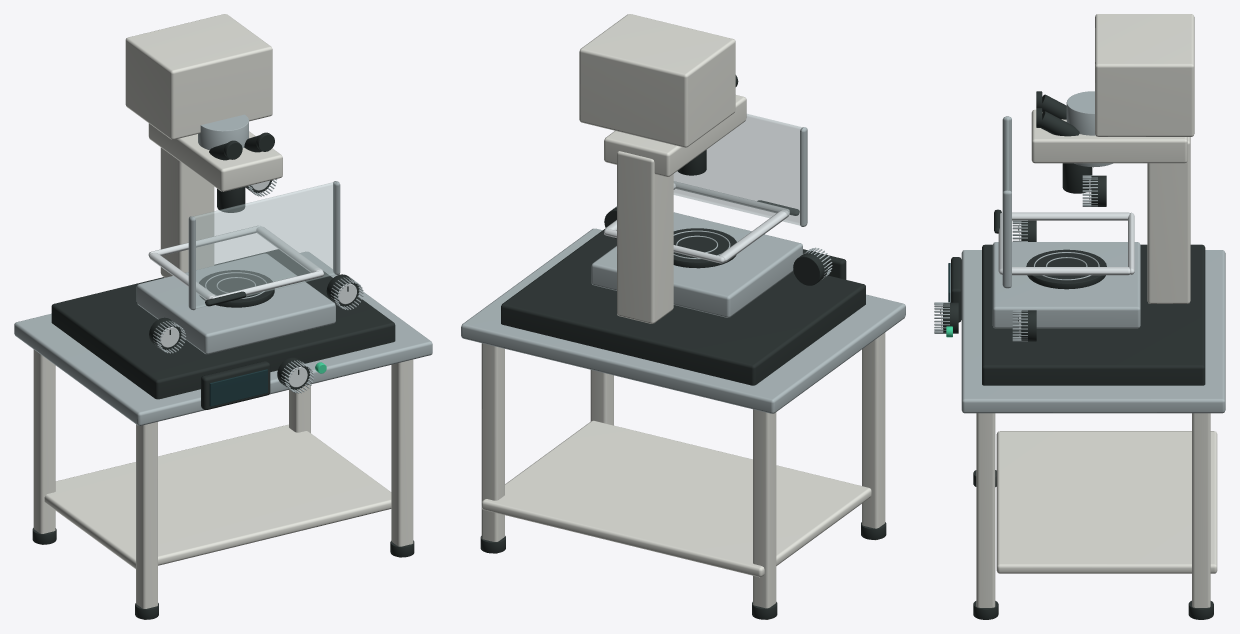
File: aligner.glb
The picture shows the model from 3 angles, left to right: view 1: azimuth 30°, elevation 25°; view 2: azimuth 150°, elevation 25°; view 3: azimuth 270°, elevation 25°; orthographic projection. The views are drawn at different scales.
Visible parts, largest first — view 1: Equipment_aligner_Ceramic ivory, Equipment_aligner_Knurled graphite, Equipment_aligner_Brushed stainless, Door.004_Quartz inspection, Carriage.004_Brushed stainless, MaskStage_Machined aluminium, Carriage.004_Knurled graphite, Door.004_Brushed stainless, LCD.008, Equipment_aligner_Machined aluminium; view 2: Equipment_aligner_Ceramic ivory, Equipment_aligner_Knurled graphite, Equipment_aligner_Brushed stainless, Door.004_Quartz inspection, Carriage.004_Brushed stainless, MaskStage_Machined aluminium, Carriage.004_Knurled graphite, Knob_align_x, Door.004_Brushed stainless; view 3: Equipment_aligner_Ceramic ivory, Equipment_aligner_Knurled graphite, Equipment_aligner_Brushed stainless, Carriage.004_Brushed stainless, MaskStage_Machined aluminium, Carriage.004_Knurled graphite, Door.004_Brushed stainless, Knob_align_y, Knob_focus, Knob_main.008.
Part boxes in pixels (<box>): Equipment_aligner_Ceramic ivory: <box>33,14,413,619</box>; Equipment_aligner_Knurled graphite: <box>32,132,414,619</box>; Equipment_aligner_Brushed stainless: <box>14,114,432,425</box>; Door.004_Quartz inspection: <box>193,182,335,308</box>; Carriage.004_Brushed stainless: <box>136,253,335,354</box>; MaskStage_Machined aluminium: <box>148,225,323,299</box>; Carriage.004_Knurled graphite: <box>199,270,274,307</box>; Door.004_Brushed stainless: <box>188,181,340,310</box>; LCD.008: <box>209,369,267,406</box>; Equipment_aligner_Machined aluminium: <box>160,180,356,387</box>; Equipment_aligner_Ceramic ivory: <box>481,14,885,619</box>; Equipment_aligner_Knurled graphite: <box>480,75,886,619</box>; Equipment_aligner_Brushed stainless: <box>461,206,905,413</box>; Door.004_Quartz inspection: <box>673,114,802,225</box>; Carriage.004_Brushed stainless: <box>591,212,802,317</box>; MaskStage_Machined aluminium: <box>604,181,789,263</box>; Carriage.004_Knurled graphite: <box>673,228,736,268</box>; Knob_align_x: <box>793,251,827,285</box>; Door.004_Brushed stainless: <box>800,127,807,226</box>; Equipment_aligner_Ceramic ivory: <box>976,14,1217,607</box>; Equipment_aligner_Knurled graphite: <box>940,91,1213,619</box>; Equipment_aligner_Brushed stainless: <box>934,91,1225,413</box>; Carriage.004_Brushed stainless: <box>992,242,1140,328</box>; MaskStage_Machined aluminium: <box>998,212,1134,275</box>; Carriage.004_Knurled graphite: <box>1026,249,1106,289</box>; Door.004_Brushed stainless: <box>1002,116,1011,288</box>; Knob_align_y: <box>1021,310,1036,341</box>; Knob_focus: <box>1091,175,1106,206</box>; Knob_main.008: <box>943,302,958,333</box>.
Size of the model in its own units: 1.33 by 2.1 by 1.08.
